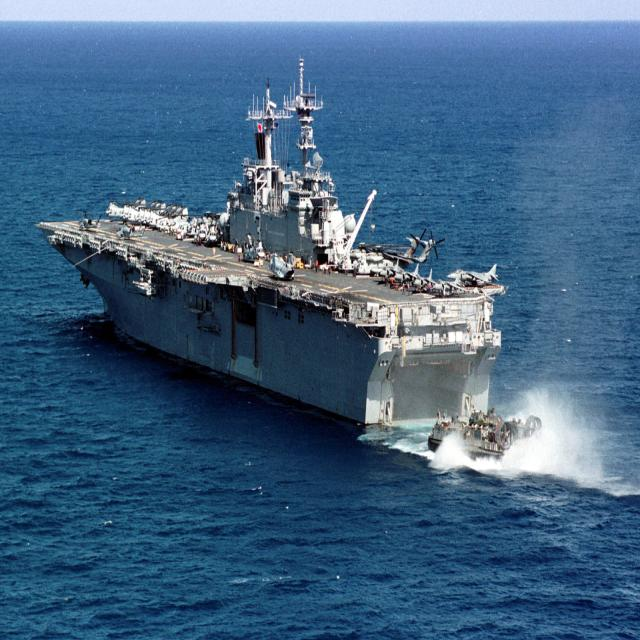navalvessels: (39, 30, 516, 437)
